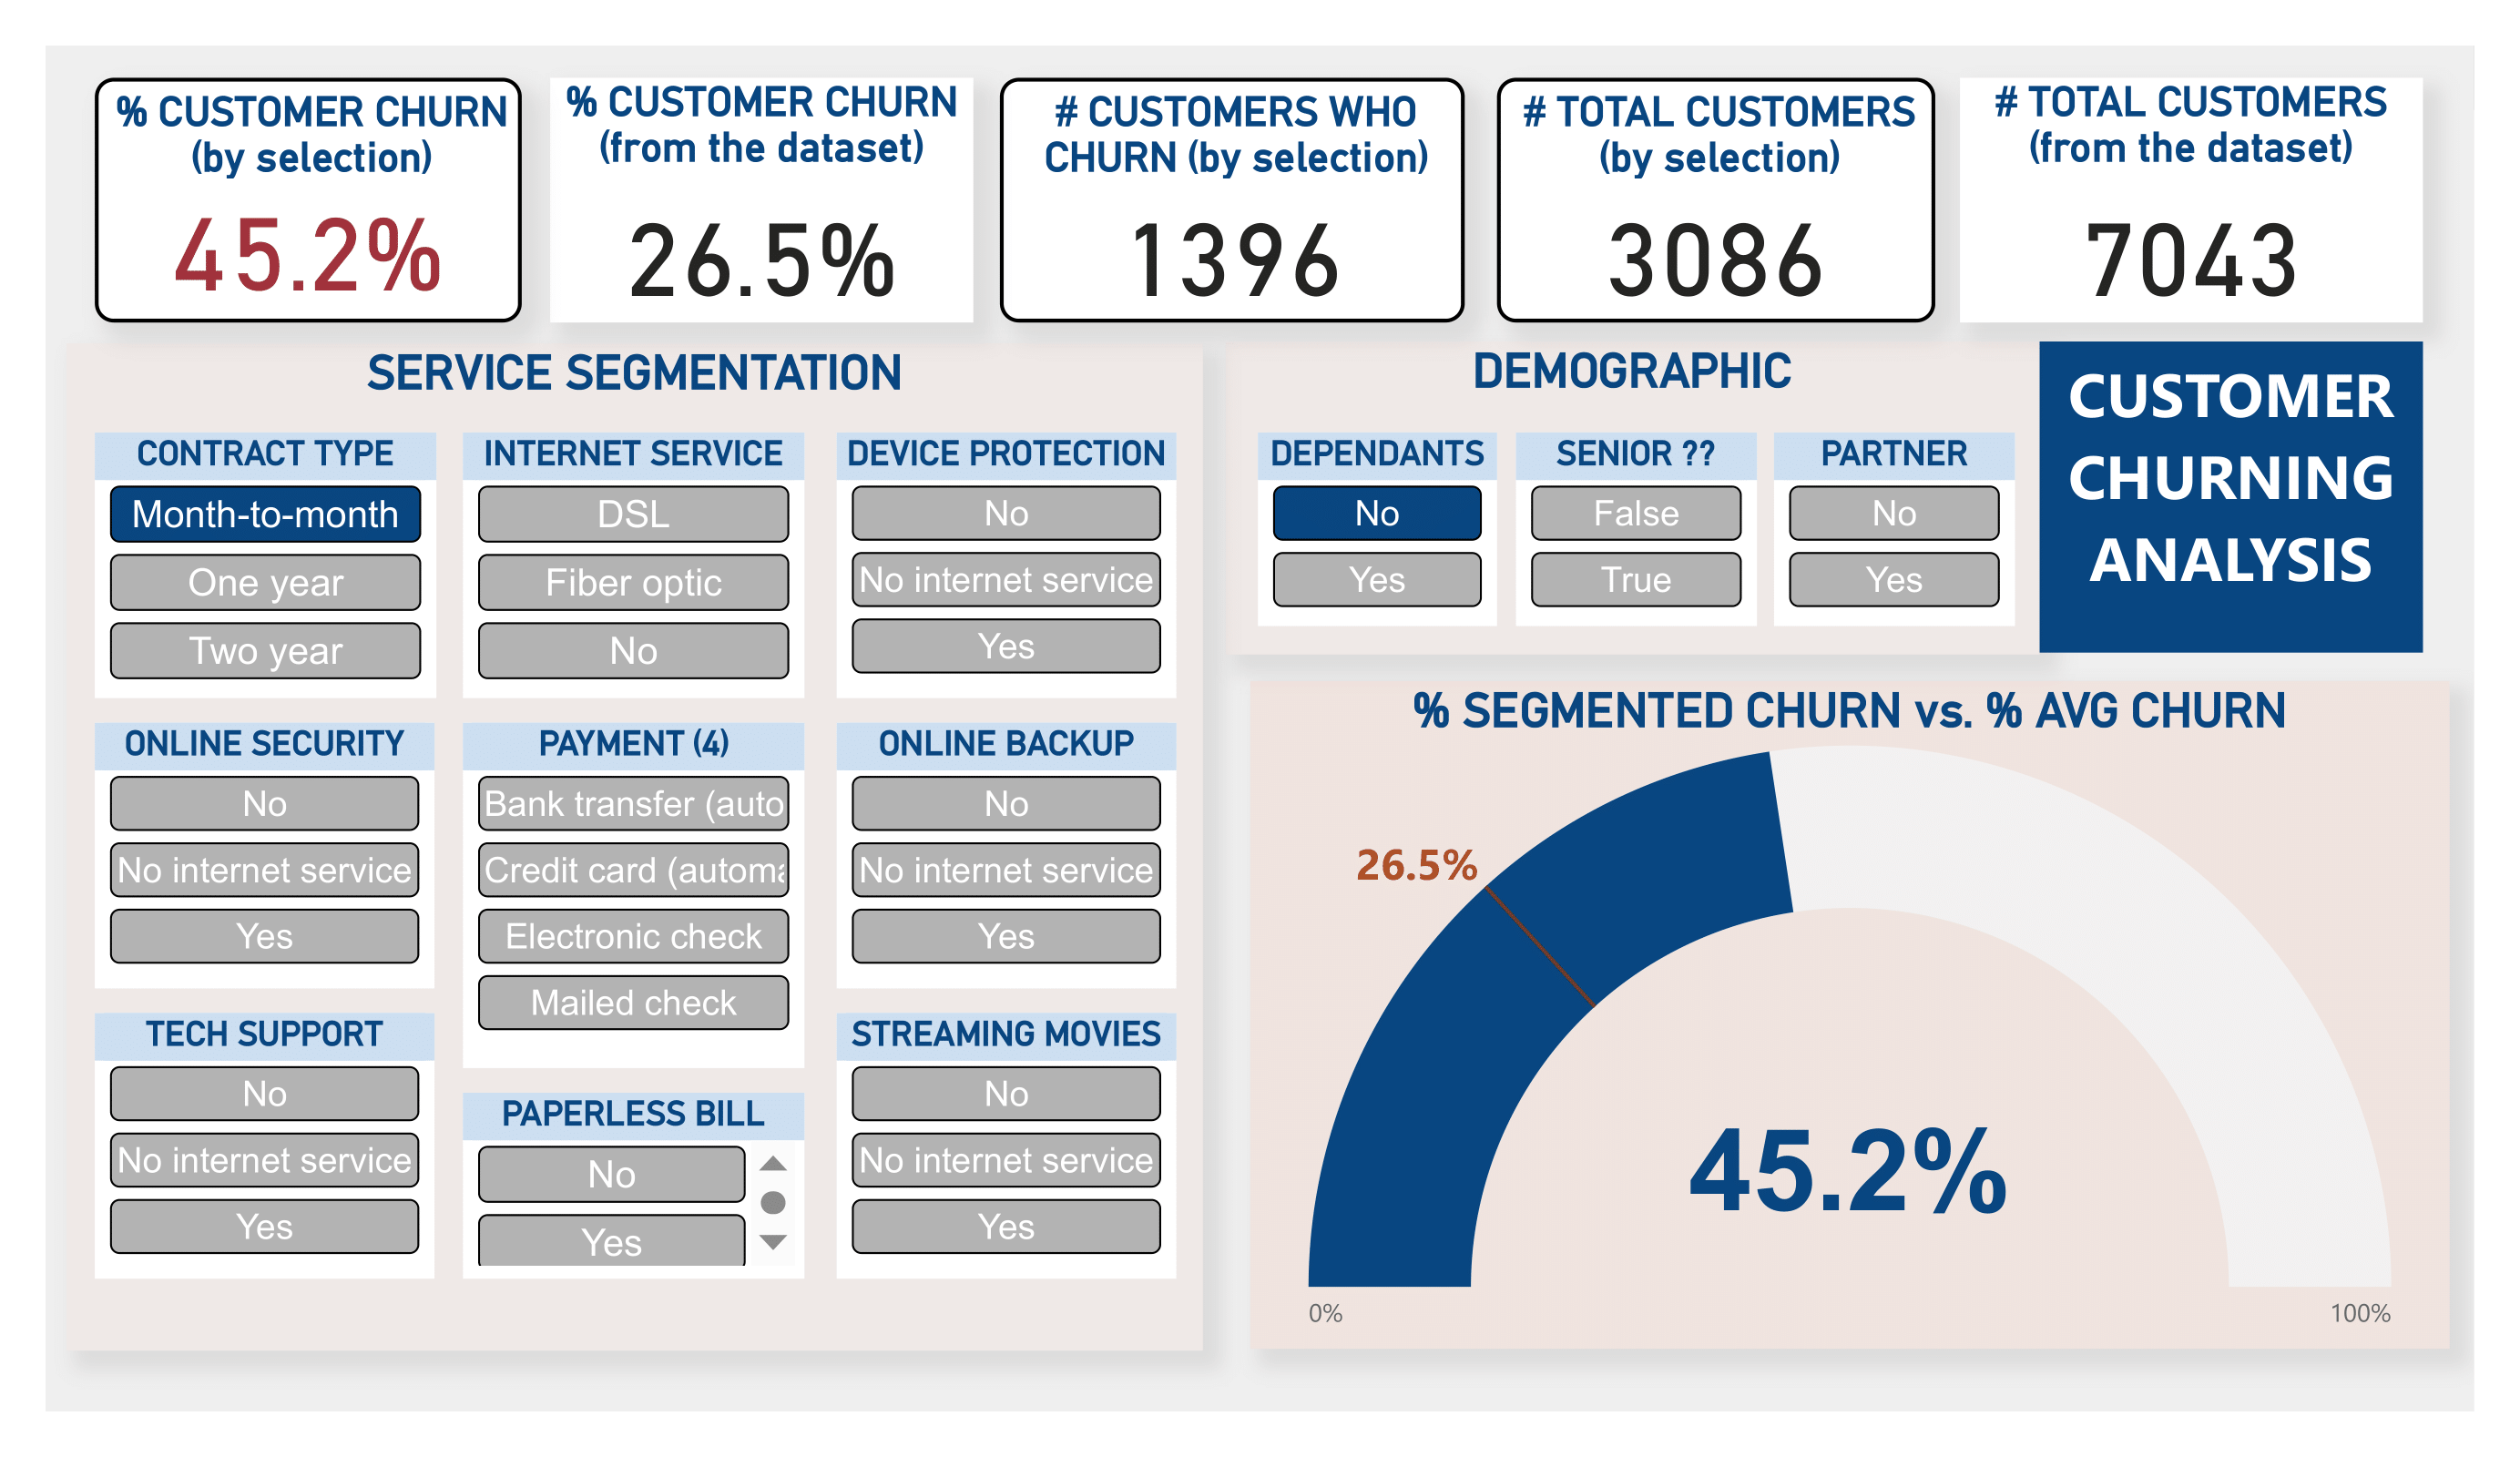

This screenshot's page, from the dashboard's own definition file:
{"tool":"powerbi","page":{"name":"Distribution_Qualitative vars","canvas":[1280,720],"ordinal":0},"visuals":[{"type":"textbox","title":"SERVICE SEGMENTATION","box":[10.6,156.9,599.1,531],"z":0},{"type":"ChicletSlicer1448559807354","title":"CONTRACT TYPE","fields":{"Category":["01 Churn-Dataset.Contract"]},"box":[26.1,204.1,179.5,139.8],"z":1000},{"type":"card","title":"# CUSTOMERS WHO CHURN (by selection)","fields":{"Values":["Count(Churn_table.customerID)"]},"box":[502.7,17,245.7,128.5],"z":2000},{"type":"card","title":"# TOTAL CUSTOMERS (by selection)","fields":{"Values":["CountNonNull(01 Churn-Dataset.customerID)"]},"box":[765.4,17,230.6,128.5],"z":3000},{"type":"card","title":"% CUSTOMER CHURN (from the dataset)","fields":{"Values":["Measure.% Churn_alldata"]},"box":[266.5,17,223,128.5],"z":4000},{"type":"card","title":"# TOTAL CUSTOMERS (from the dataset)","fields":{"Values":["Count(01 Churn-Dataset.customerID)"]},"box":[1009,17,243.8,128.5],"z":5000},{"type":"PBI_CV_7B952816_A48F_49B4_9E13_15E3BB2C0337","title":"% CUSTOMER CHURN (by selection)","fields":{"Values":["Measure.% Churn"]},"box":[26.5,17,224.9,128.5],"z":6000},{"type":"ChicletSlicer1448559807354","title":"ONLINE SECURITY","fields":{"Category":["01 Churn-Dataset.OnlineSecurity"]},"box":[25.7,357.2,179.5,139.8],"z":7000},{"type":"ChicletSlicer1448559807354","title":"TECH SUPPORT","fields":{"Category":["01 Churn-Dataset.TechSupport"]},"box":[25.7,510.3,179.5,139.8],"z":8000},{"type":"ChicletSlicer1448559807354","title":"INTERNET SERVICE","fields":{"Category":["01 Churn-Dataset.InternetService"]},"box":[220.4,204.1,179.5,139.8],"z":9000},{"type":"ChicletSlicer1448559807354","title":"PAYMENT (4)","fields":{"Category":["01 Churn-Dataset.PaymentMethod"]},"box":[220.4,357.2,179.5,181.4],"z":10000},{"type":"ChicletSlicer1448559807354","title":"ONLINE BACKUP","fields":{"Category":["01 Churn-Dataset.OnlineBackup"]},"box":[416.9,357.2,179.5,139.8],"z":11000},{"type":"ChicletSlicer1448559807354","title":"DEVICE PROTECTION","fields":{"Category":["01 Churn-Dataset.DeviceProtection"]},"box":[416.9,204.1,179.5,139.8],"z":12000},{"type":"ChicletSlicer1448559807354","title":"PAPERLESS BILL","fields":{"Category":["01 Churn-Dataset.PaperlessBilling"]},"box":[220.4,551.9,179.5,98.3],"z":13000},{"type":"ChicletSlicer1448559807354","title":"STREAMING MOVIES","fields":{"Category":["01 Churn-Dataset.StreamingMovies"]},"box":[416.9,510.3,179.5,139.8],"z":14000},{"type":"textbox","title":"DEMOGRAPHIC","box":[621.8,156.5,429,164.4],"z":15000},{"type":"ChicletSlicer1448559807354","title":"DEPENDANTS","fields":{"Category":["01 Churn-Dataset.Dependents"]},"box":[638.8,203.7,126.6,102],"z":16000},{"type":"ChicletSlicer1448559807354","title":"SENIOR ??","fields":{"Category":["01 Churn-Dataset.SeniorCitizen"]},"box":[774.9,203.7,126.6,102],"z":17000},{"type":"ChicletSlicer1448559807354","title":"PARTNER","fields":{"Category":["01 Churn-Dataset.Partner"]},"box":[911,203.7,126.6,102],"z":18000},{"type":"gauge","title":"% SEGMENTED CHURN vs. % AVG CHURN ","fields":{"Y":["Measure.% Churn"]},"box":[635.4,334.6,631.4,352.5],"z":19000},{"type":"textbox","box":[1051,156,202,164],"z":20000}]}

Visuals, with their boxes on the page's 1280x720 design canvas (x1, y1, x2, y2). These are canvas units, not pixel positions in the 2520x1457 screenshot, which may show the page scaled, cropped or inside an application window:
"SERVICE SEGMENTATION" textbox: bbox=(11, 157, 610, 688)
"CONTRACT TYPE" ChicletSlicer1448559807354: bbox=(26, 204, 206, 344)
"# CUSTOMERS WHO CHURN (by selection)" card: bbox=(503, 17, 748, 146)
"# TOTAL CUSTOMERS (by selection)" card: bbox=(765, 17, 996, 146)
"% CUSTOMER CHURN (from the dataset)" card: bbox=(266, 17, 490, 146)
"# TOTAL CUSTOMERS (from the dataset)" card: bbox=(1009, 17, 1253, 146)
"% CUSTOMER CHURN (by selection)" PBI_CV_7B952816_A48F_49B4_9E13_15E3BB2C0337: bbox=(26, 17, 251, 146)
"ONLINE SECURITY" ChicletSlicer1448559807354: bbox=(26, 357, 205, 497)
"TECH SUPPORT" ChicletSlicer1448559807354: bbox=(26, 510, 205, 650)
"INTERNET SERVICE" ChicletSlicer1448559807354: bbox=(220, 204, 400, 344)
"PAYMENT (4)" ChicletSlicer1448559807354: bbox=(220, 357, 400, 539)
"ONLINE BACKUP" ChicletSlicer1448559807354: bbox=(417, 357, 596, 497)
"DEVICE PROTECTION" ChicletSlicer1448559807354: bbox=(417, 204, 596, 344)
"PAPERLESS BILL" ChicletSlicer1448559807354: bbox=(220, 552, 400, 650)
"STREAMING MOVIES" ChicletSlicer1448559807354: bbox=(417, 510, 596, 650)
"DEMOGRAPHIC" textbox: bbox=(622, 156, 1051, 321)
"DEPENDANTS" ChicletSlicer1448559807354: bbox=(639, 204, 765, 306)
"SENIOR ??" ChicletSlicer1448559807354: bbox=(775, 204, 902, 306)
"PARTNER" ChicletSlicer1448559807354: bbox=(911, 204, 1038, 306)
"% SEGMENTED CHURN vs. % AVG CHURN " gauge: bbox=(635, 335, 1267, 687)
textbox: bbox=(1051, 156, 1253, 320)
